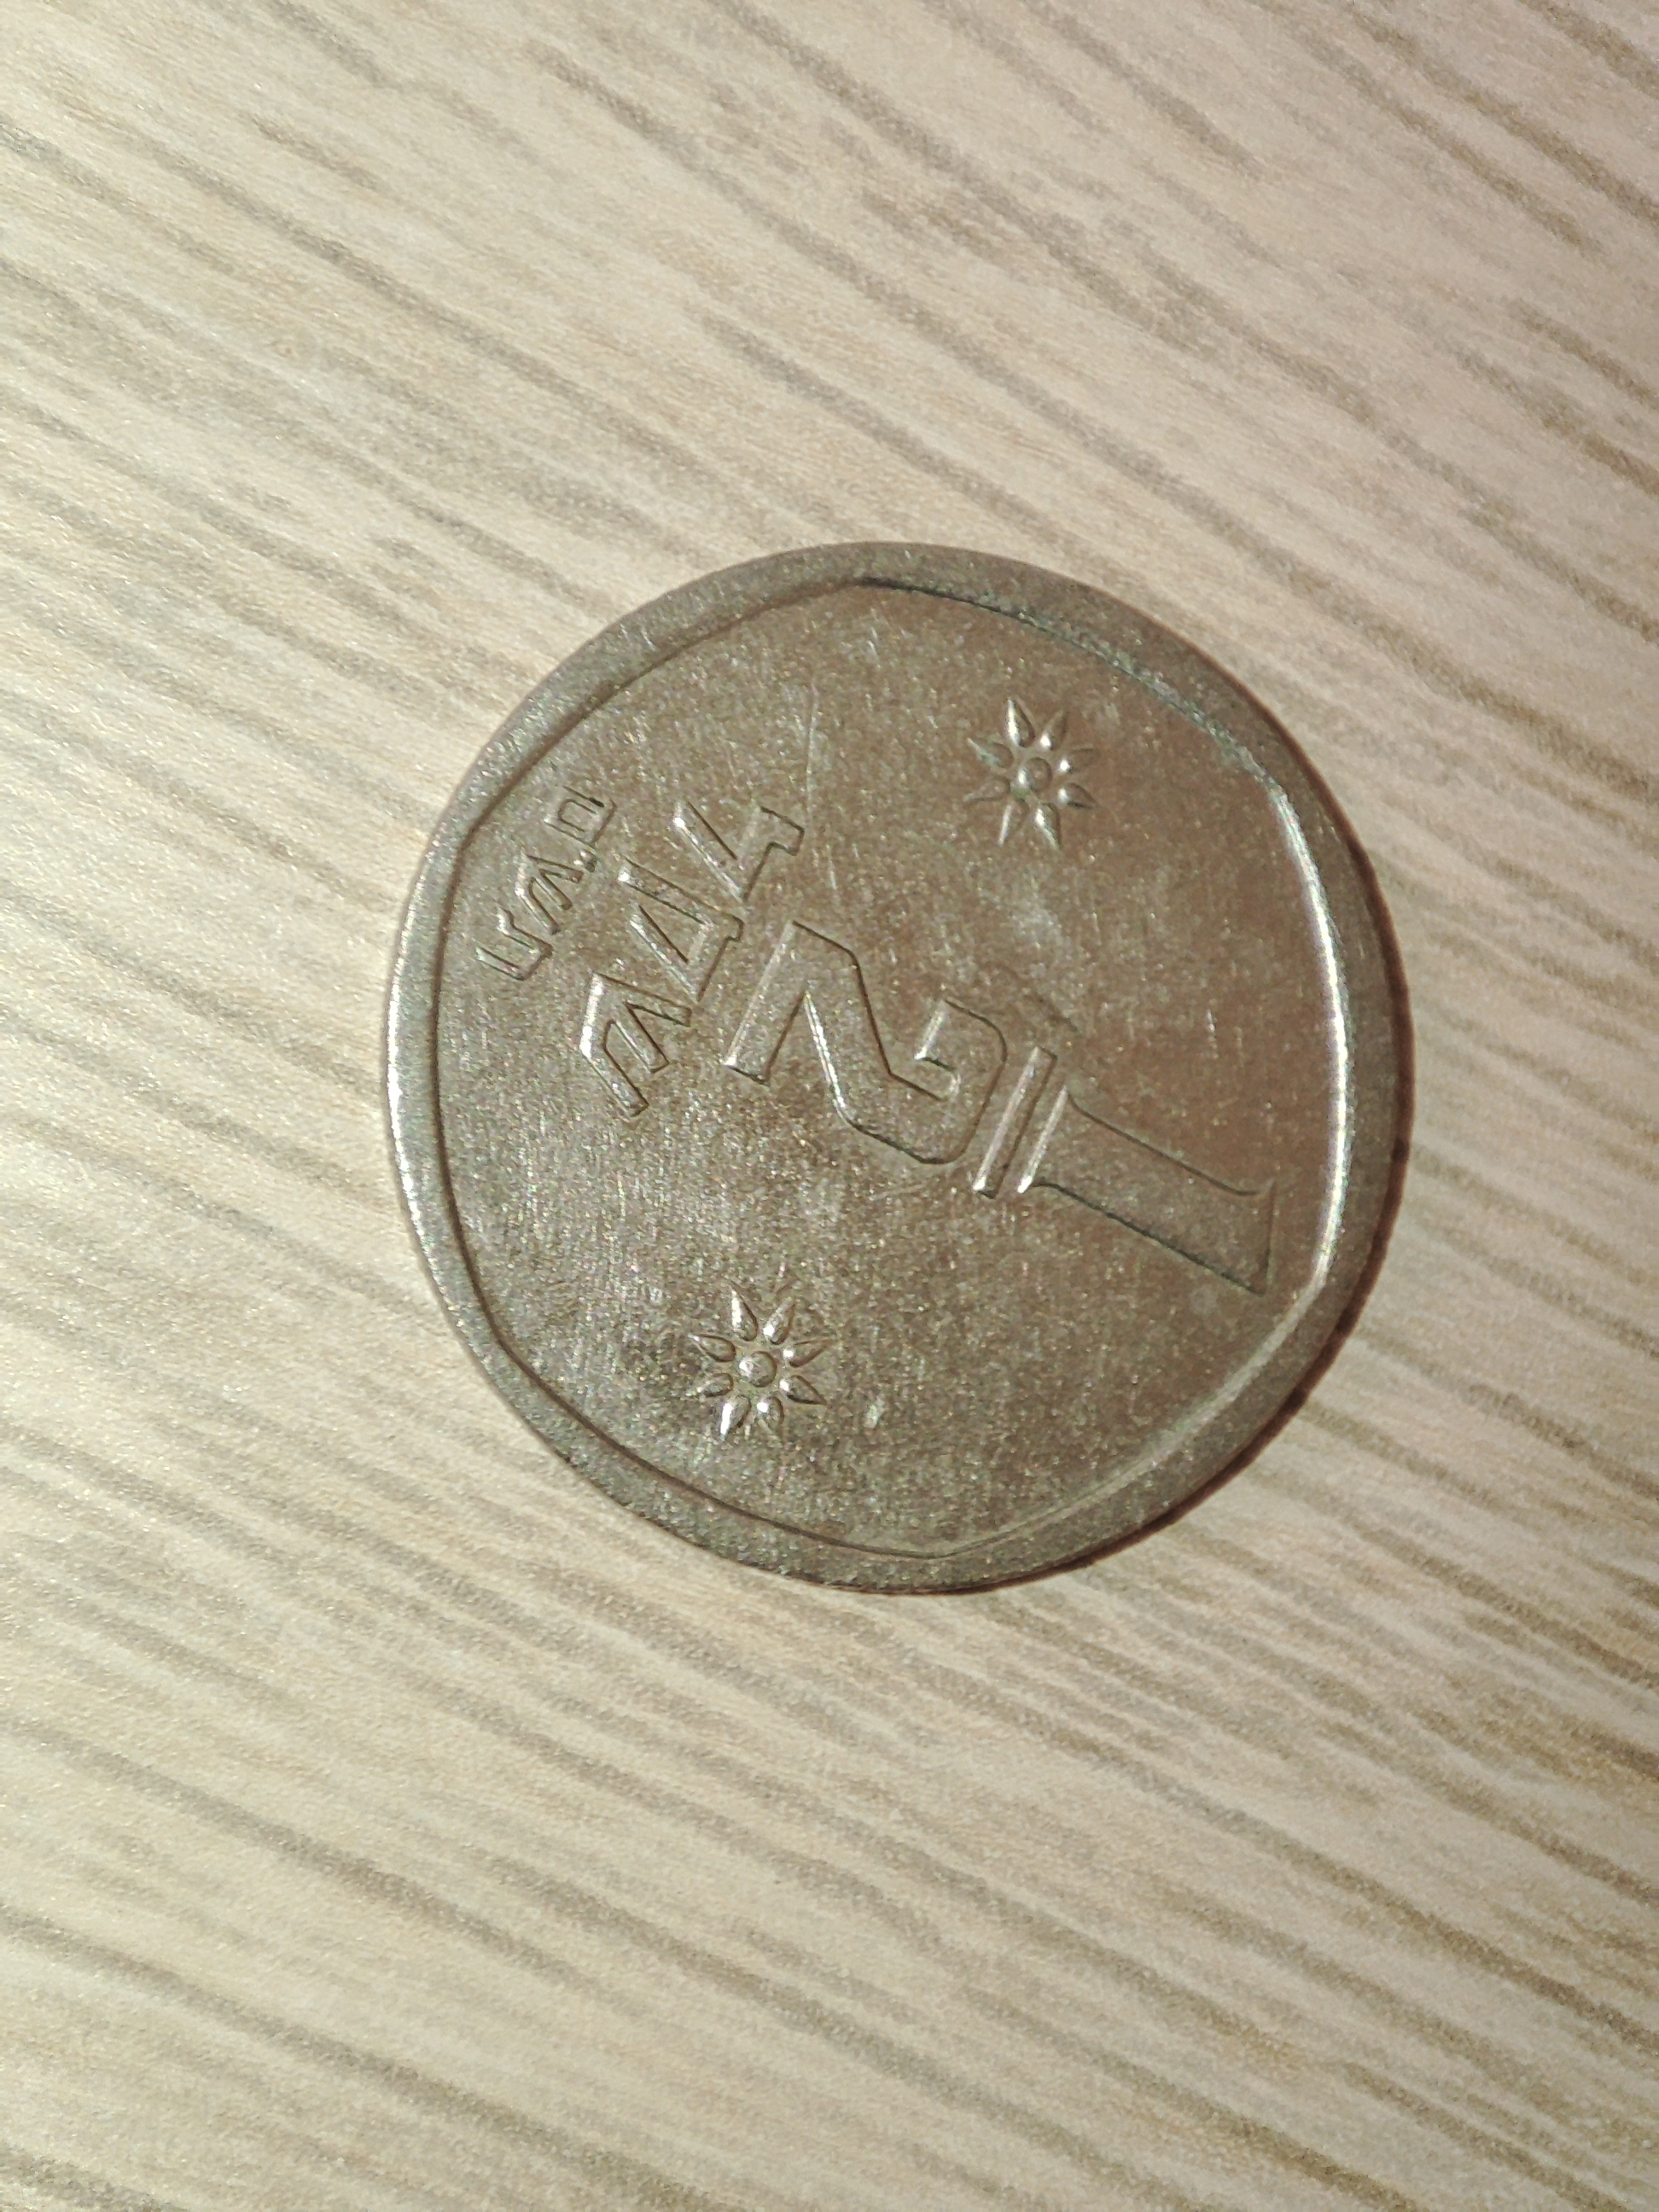1/2 old sheqel: (373, 538, 1424, 1604)
